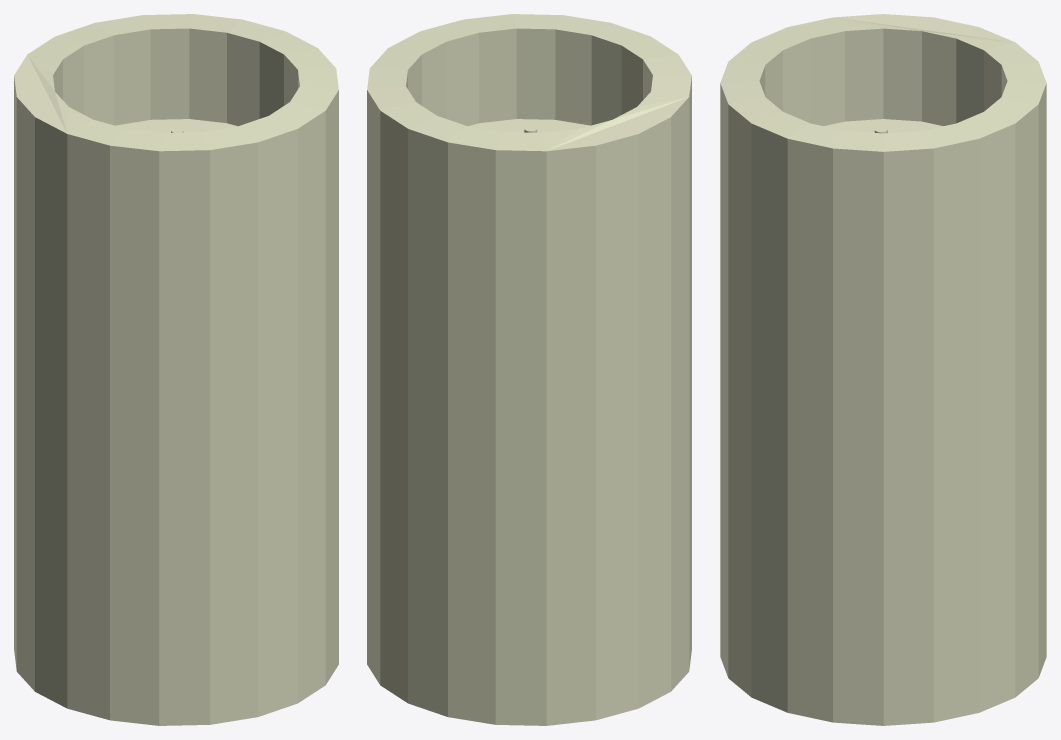
File: Horror_Slim_Short_Candle.fbx
The picture shows the model from 3 angles, left to right: view 1: azimuth 30°, elevation 25°; view 2: azimuth 150°, elevation 25°; view 3: azimuth 270°, elevation 25°; orthographic projection.
Visible parts, largest first — view 1: pCylinder51; view 2: pCylinder51; view 3: pCylinder51.
Part boxes in pixels (x1,y1,x2,y2): pCylinder51: (14, 14, 338, 725); pCylinder51: (367, 14, 691, 725); pCylinder51: (720, 14, 1046, 725).
Bounding box in the file's own units: 8.46 × 16.49 × 8.46.
